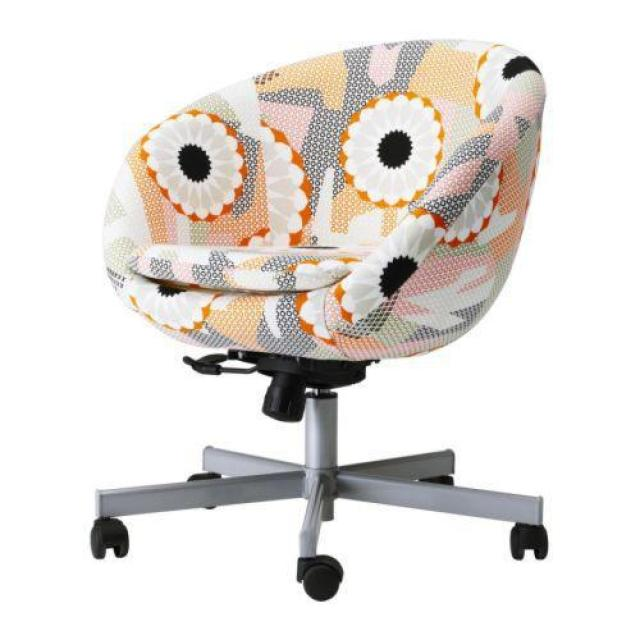swivelchair: (90, 38, 547, 604)
